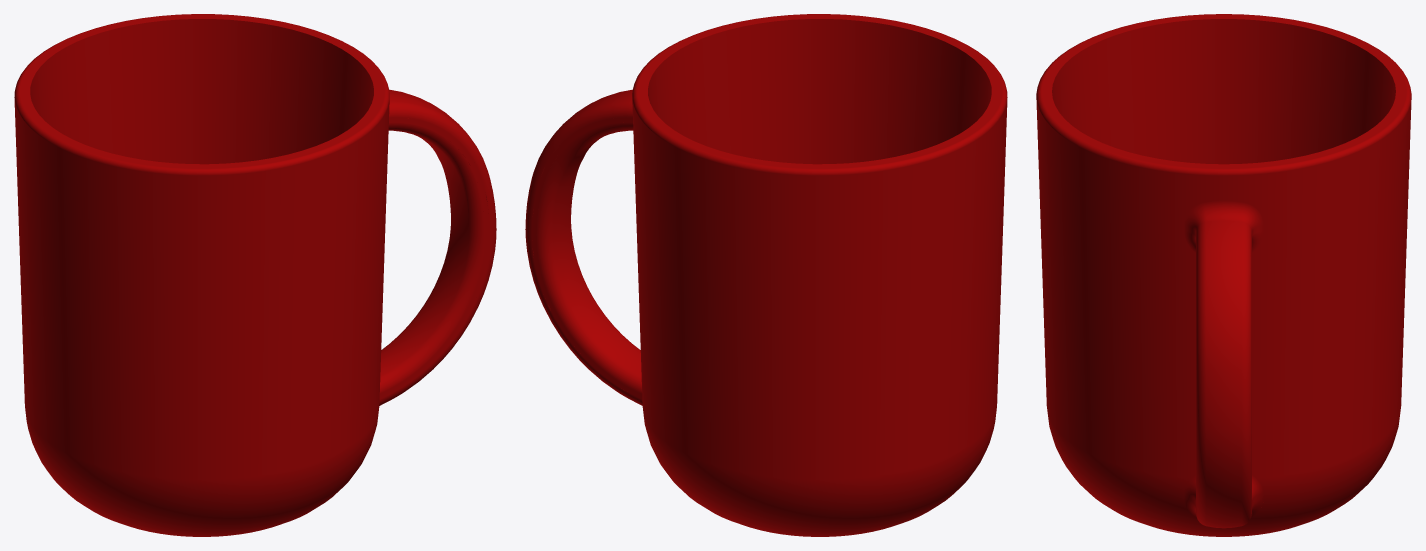
The model's file is CM-MUG031.glb.
3 views of the same model, side by side, from view 1: azimuth 30°, elevation 25°; view 2: azimuth 150°, elevation 25°; view 3: azimuth 270°, elevation 25° (orthographic).
Bounding box in the file's own units: 0.0995 × 0.0857 × 0.072.
